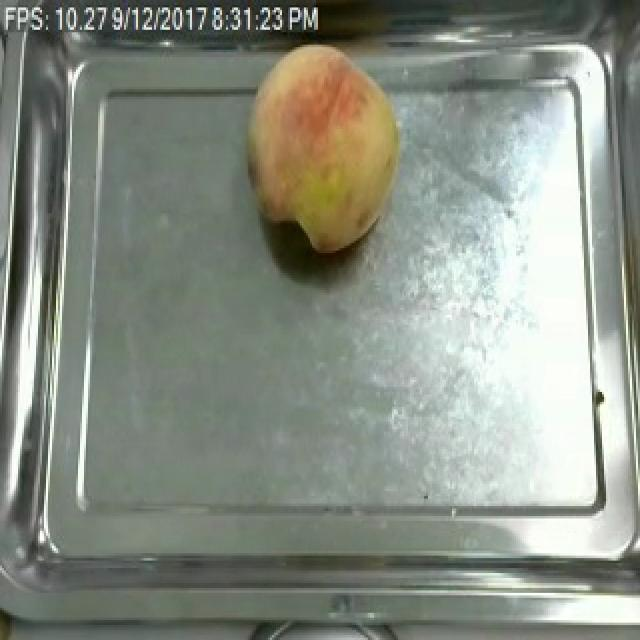Fruit: (236, 35, 412, 260)
